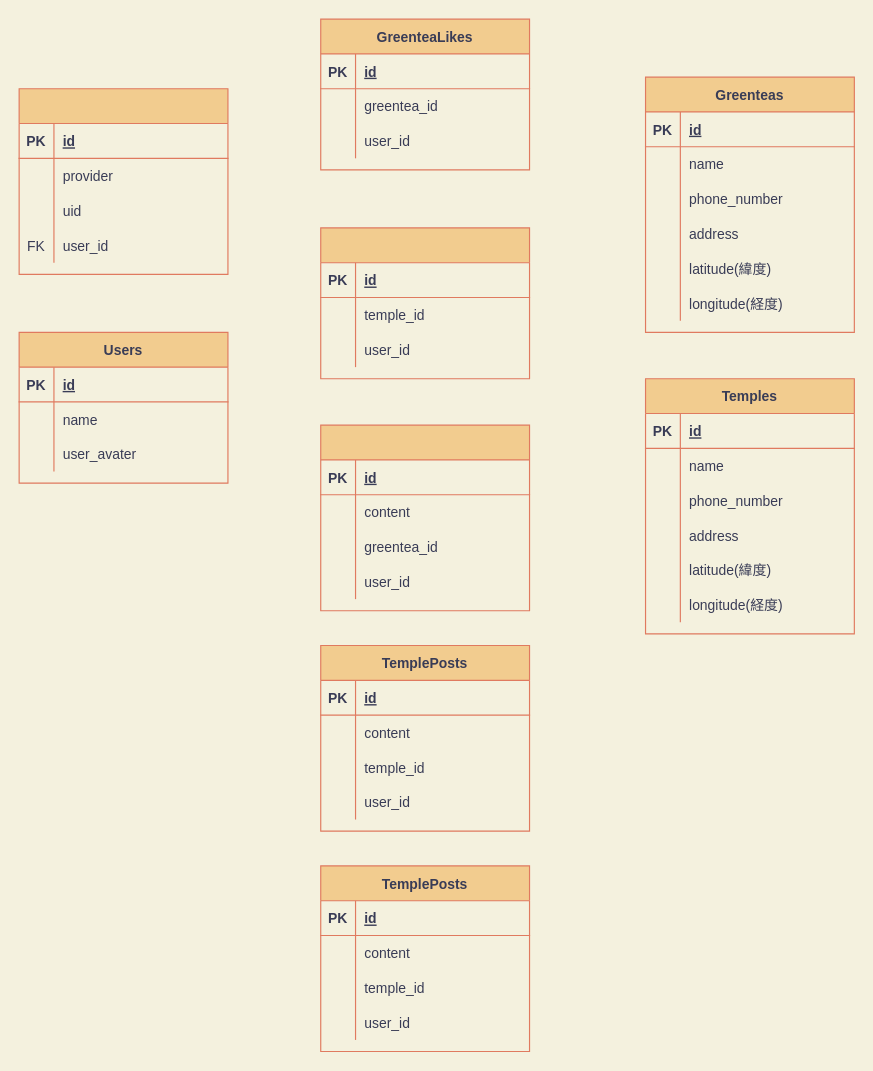
Some shapes in this 873 by 1071 pixel diagram are drawn without their labels. The box of each missing label's shape, as (x1, y1, x2, y2) in pixels:
Authentications: (18, 88, 228, 274)
GreenteaPosts: (320, 424, 530, 611)
TempleLikes: (320, 227, 530, 379)
